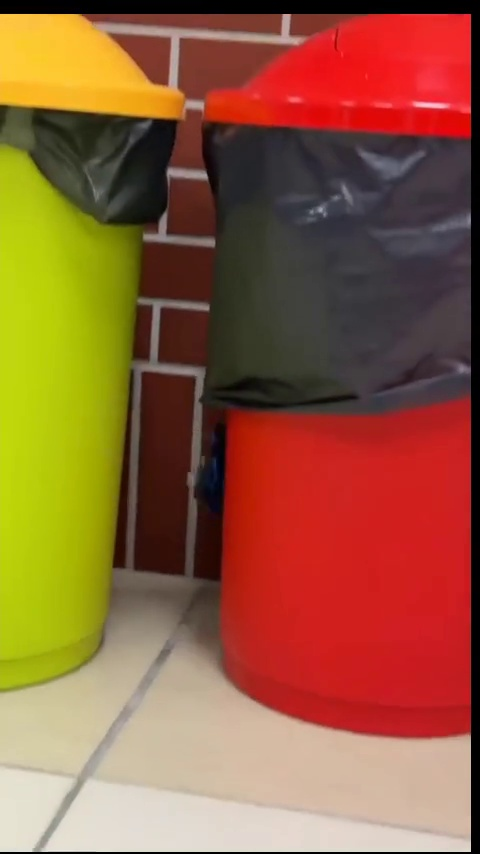drone: (181, 435, 224, 503)
